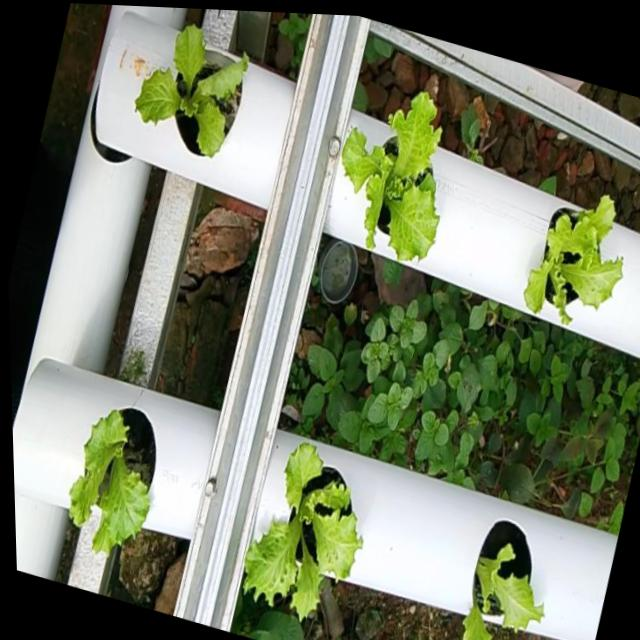Baby: (238, 444, 358, 624), (336, 94, 436, 263), (129, 28, 244, 161), (518, 195, 616, 324), (65, 411, 151, 557), (459, 518, 539, 640)
